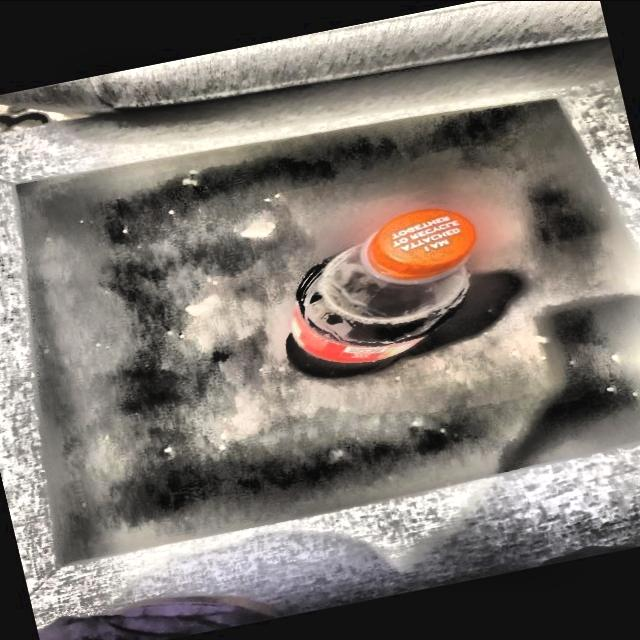coke-bottle: (286, 207, 484, 387)
